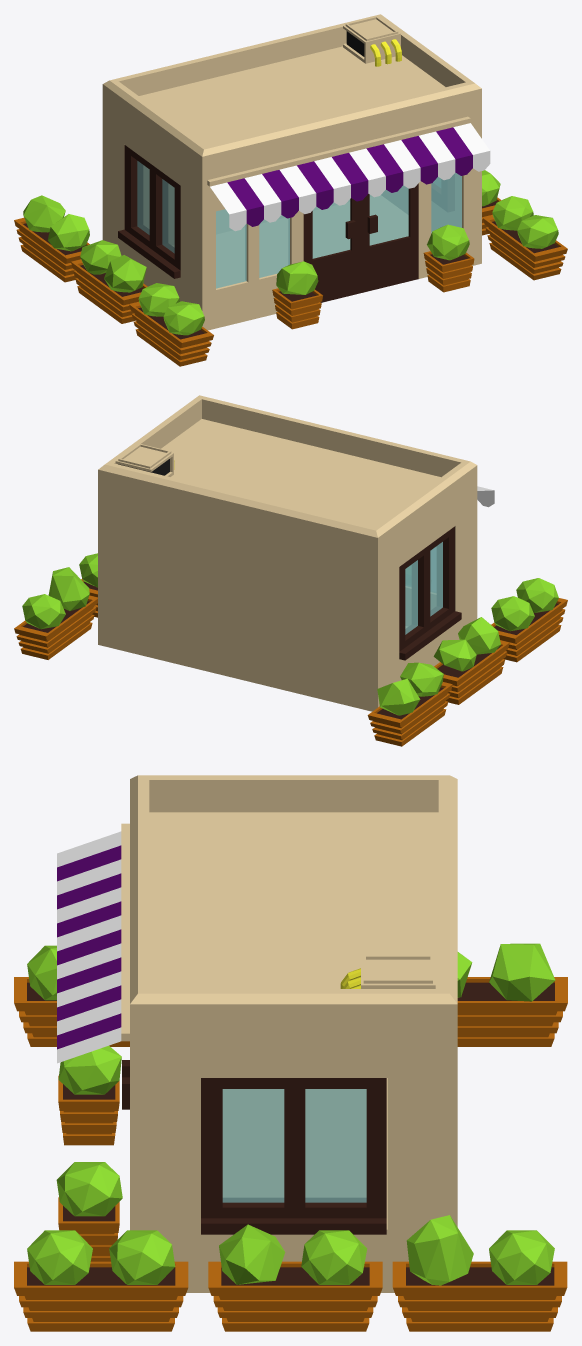
File: tienda_opt.glb
The picture shows the model from 3 angles, top to bottom: view 1: azimuth 30°, elevation 25°; view 2: azimuth 150°, elevation 25°; view 3: azimuth 270°, elevation 25°; orthographic projection. The views are drawn at different scales.
Visible parts, largest first — view 1: casa_texture_0, finestra .001_vetro_0; view 2: casa_texture_0, finestra .001_vetro_0; view 3: casa_texture_0, finestra .001_vetro_0.
Part boxes in pixels (left/top/right/bottom): casa_texture_0: left=14, top=14, right=567, bottom=366; finestra .001_vetro_0: left=137, top=161, right=461, bottom=288; casa_texture_0: left=14, top=395, right=567, bottom=746; finestra .001_vetro_0: left=405, top=542, right=442, bottom=634; casa_texture_0: left=14, top=775, right=567, bottom=1331; finestra .001_vetro_0: left=222, top=1089, right=366, bottom=1202.
Bounding box in the file's own units: 728 × 326 × 541.
Materials: 2 (1 with a texture image).
